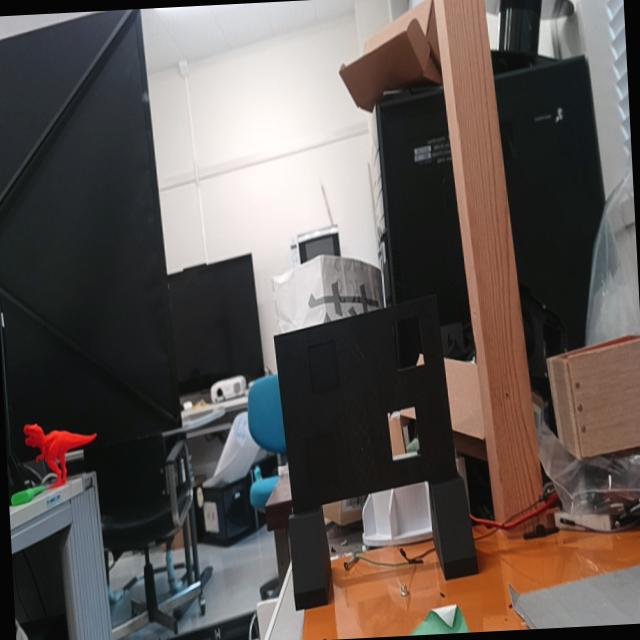Obstacle: (386, 406, 420, 459), (394, 324, 424, 367)
Wall: (274, 297, 456, 512)
